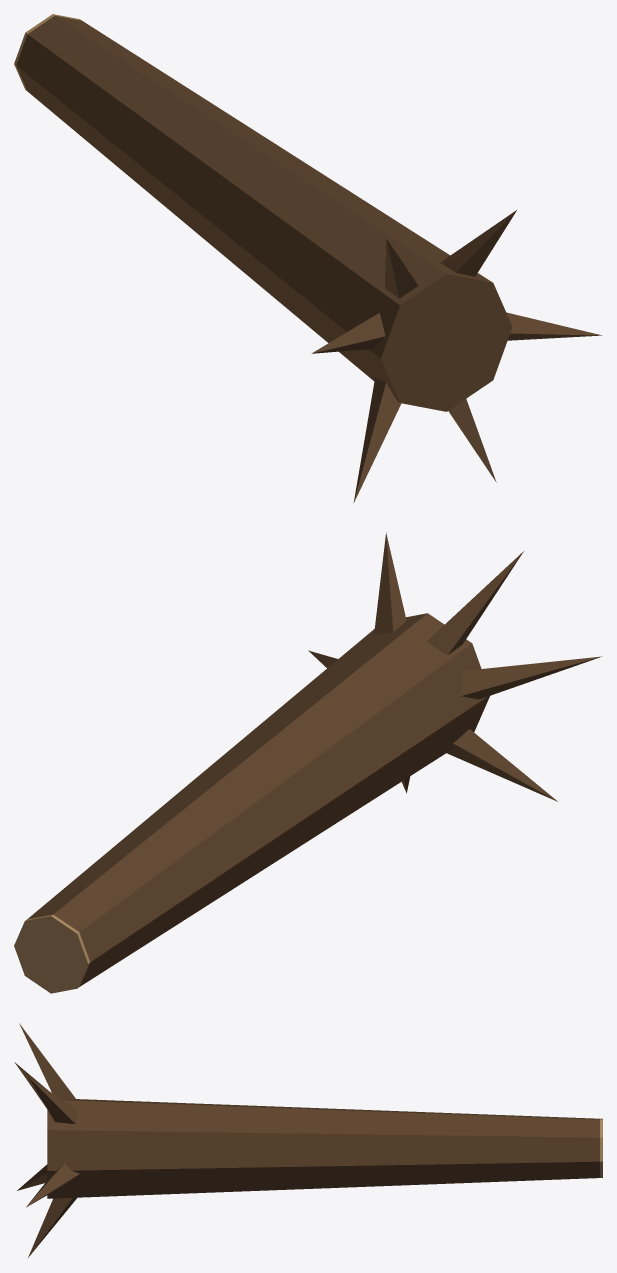
File: prop_club.fbx
3 renders of one model, top to bottom at view 1: azimuth 30°, elevation 25°; view 2: azimuth 150°, elevation 25°; view 3: azimuth 270°, elevation 25°, orthographic. The views are drawn at different scales.
Parts seen in each view (by area): view 1: prop_club; view 2: prop_club; view 3: prop_club.
Part boxes in pixels (x1,y1,x2,y2): prop_club: [14, 14, 602, 502]; prop_club: [14, 532, 602, 993]; prop_club: [14, 1023, 602, 1257].
Bounding box in the file's own units: 1.55 × 1.37 × 3.73.
Materials: 1 (1 with a texture image).
